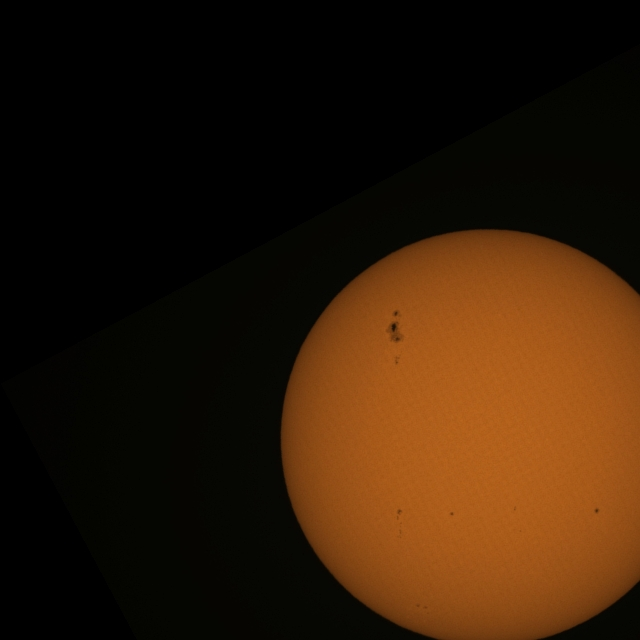sunspot: (385, 308, 405, 345), (393, 506, 405, 540), (394, 508, 404, 528), (416, 603, 428, 611), (394, 354, 401, 366), (512, 505, 518, 513), (594, 507, 600, 514), (449, 511, 454, 516)
